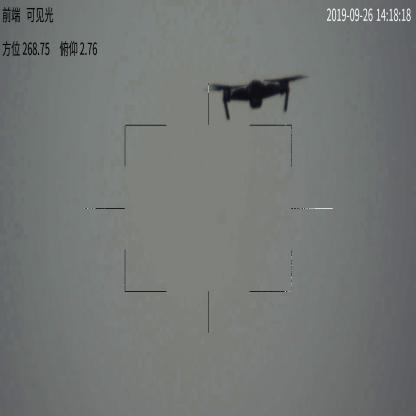uav: (204, 70, 310, 121)
